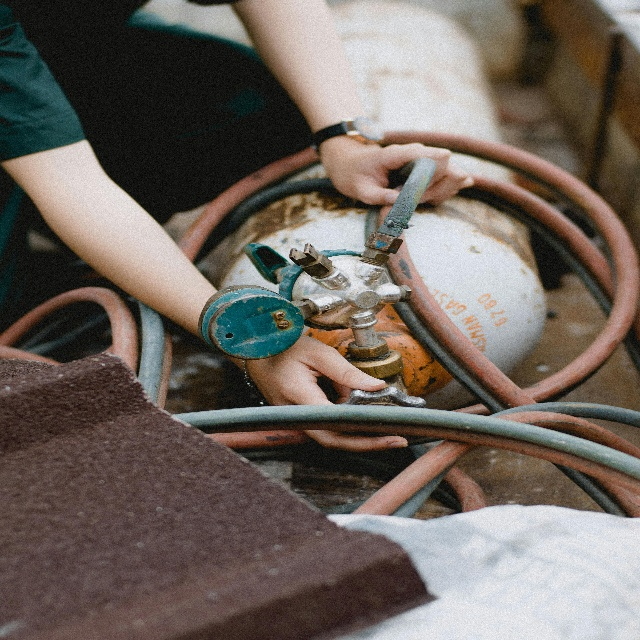Sin_guantes: (243, 334, 408, 452), (321, 135, 473, 205)
